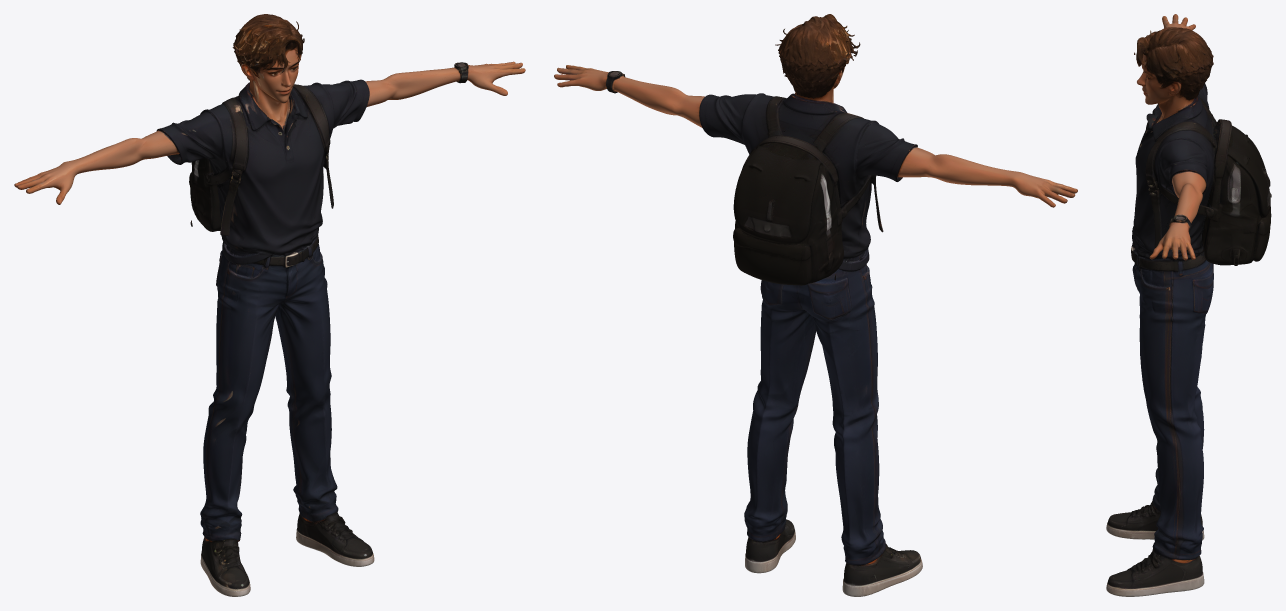
The model's file is hero.glb.
The picture shows the model from 3 angles, left to right: view 1: azimuth 30°, elevation 25°; view 2: azimuth 150°, elevation 25°; view 3: azimuth 270°, elevation 25°; orthographic projection. The views are drawn at different scales.
Bounding box in the file's own units: 1.86 × 1.9 × 0.5355.
Materials: 1 (1 with a texture image).
